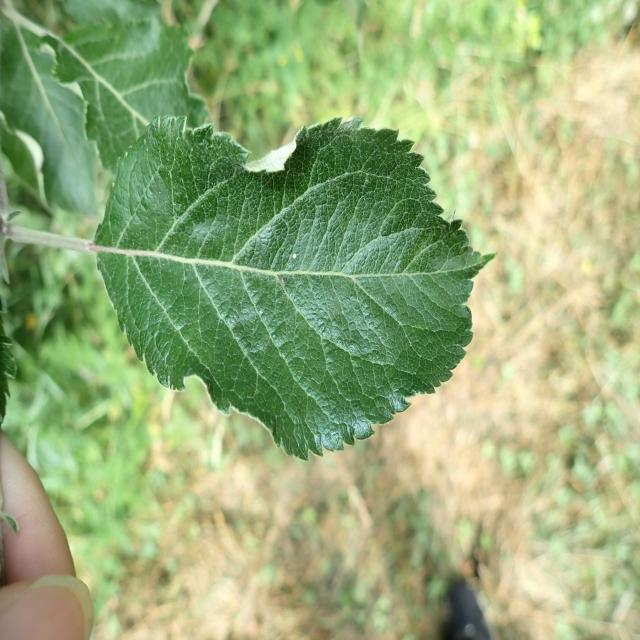healthy: (93, 114, 498, 463), (51, 2, 210, 170), (0, 27, 100, 219)
